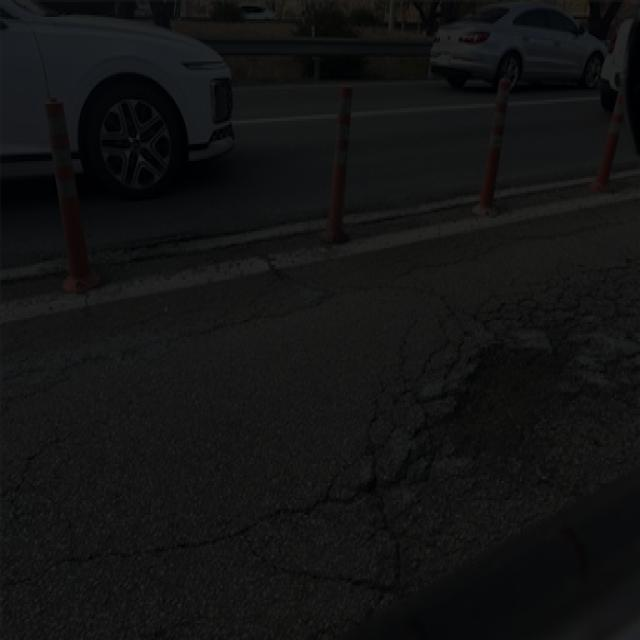pothole: (414, 300, 582, 490)
